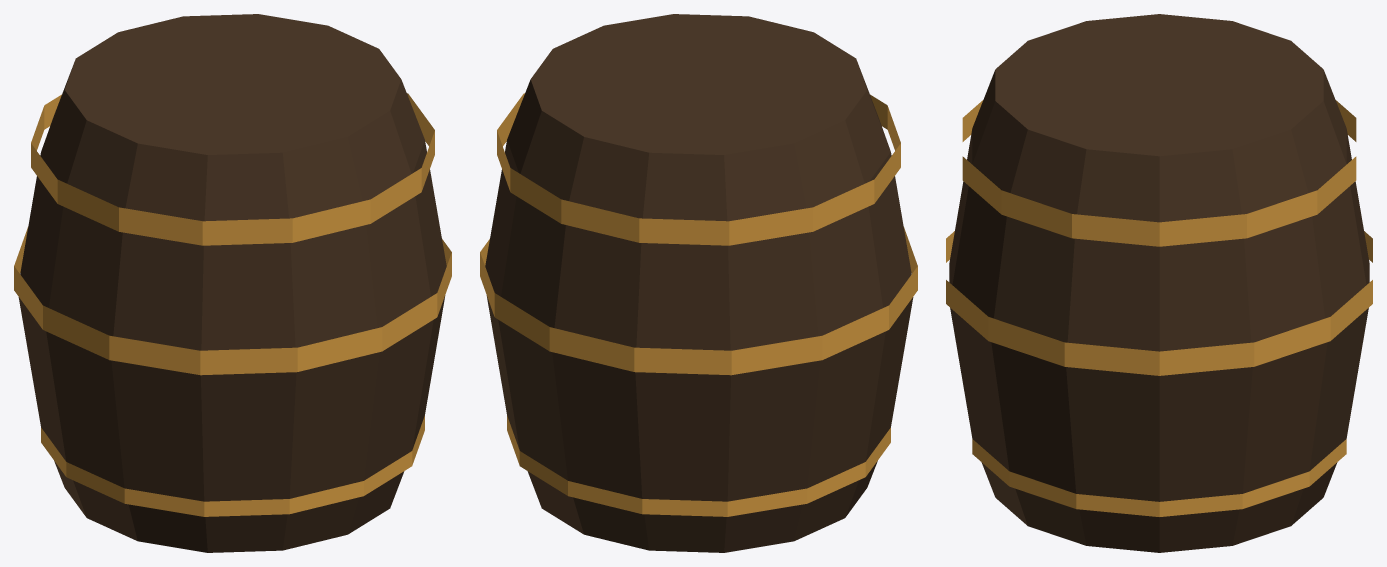
The model's file is cellar-barrel.obj.
The picture shows the model from 3 angles, left to right: view 1: azimuth 30°, elevation 25°; view 2: azimuth 150°, elevation 25°; view 3: azimuth 270°, elevation 25°; orthographic projection.
Size of the model in its own units: 1.3 by 1.3 by 1.27.
